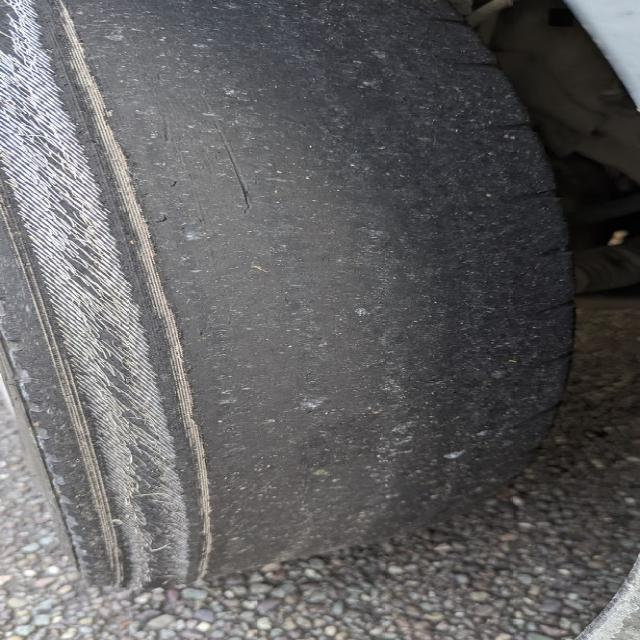Flat spots: (182, 1, 510, 562)
